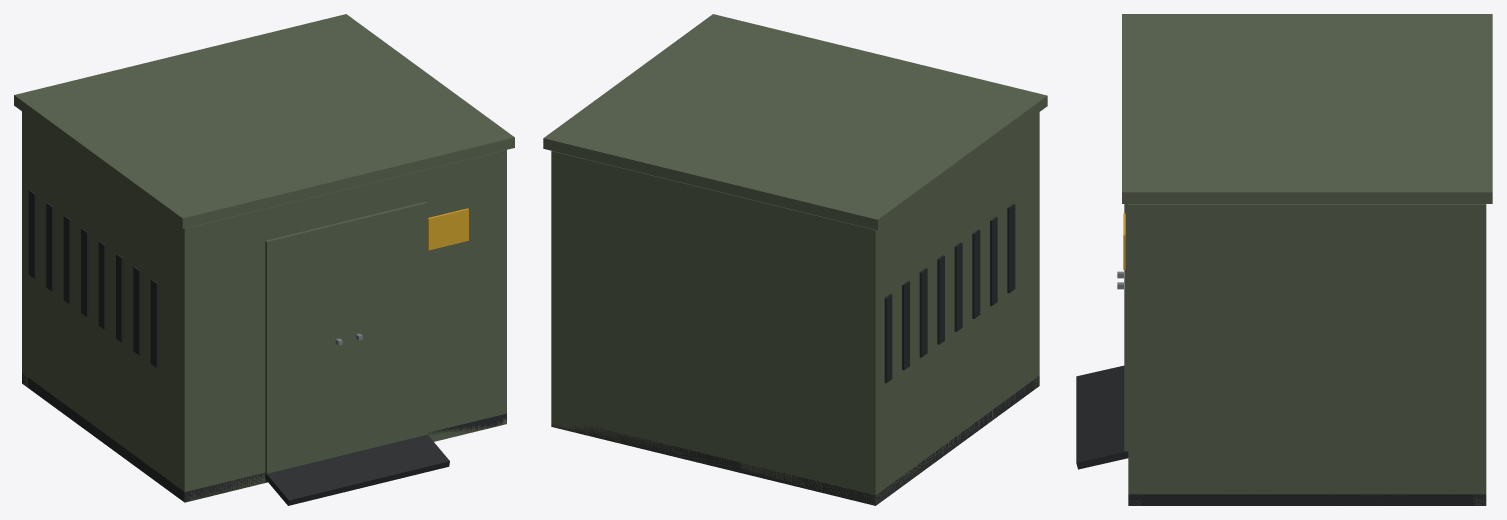
The model's file is utility_cabinet.glb.
3 renders of one model, left to right at view 1: azimuth 30°, elevation 25°; view 2: azimuth 150°, elevation 25°; view 3: azimuth 270°, elevation 25°, orthographic. The views are drawn at different scales.
Visible parts, largest first — view 1: Shell, Dressing, Door_L, Door_R; view 2: Shell, Dressing; view 3: Shell, Dressing, Door_R.
Part boxes in pixels (x1,y1,x2,y2): Shell: (22, 111, 506, 505); Dressing: (14, 14, 514, 367); Door_L: (265, 221, 347, 473); Door_R: (346, 201, 427, 453); Shell: (551, 112, 1039, 505); Dressing: (543, 14, 1047, 383); Shell: (1076, 204, 1486, 505); Dressing: (1122, 14, 1492, 269); Door_R: (1117, 204, 1128, 451).
Size of the model in its own units: 3.3 by 2.79 by 3.26.
